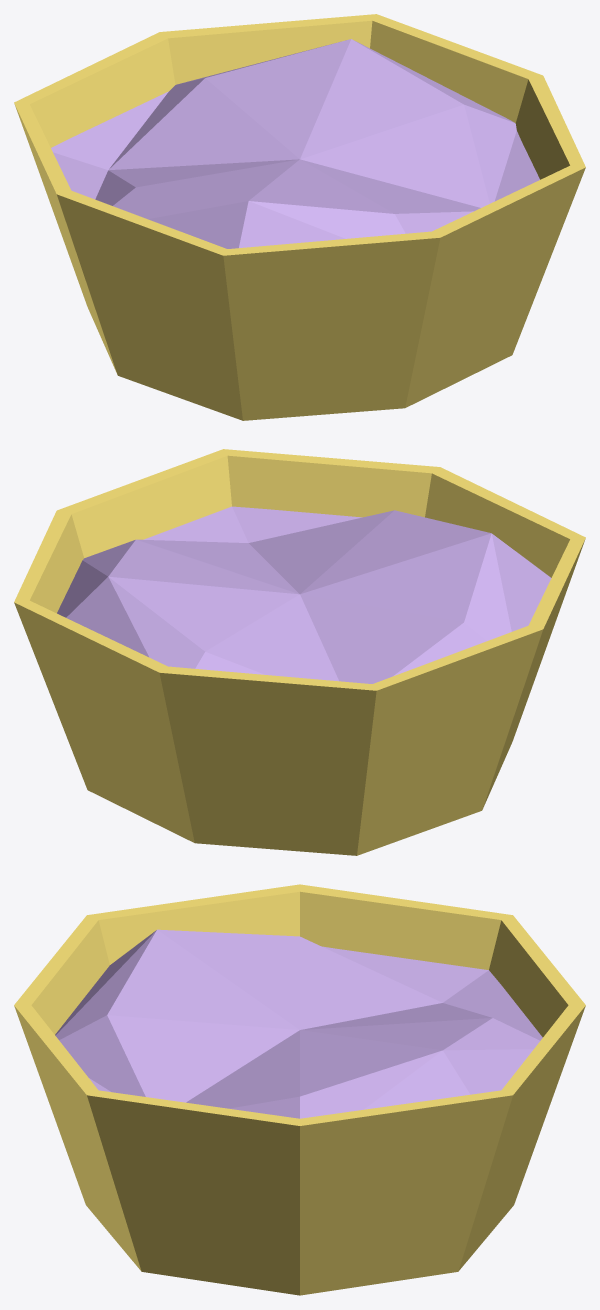
The model's file is Basket_5.fbx.
3 views of the same model, one above another, from view 1: azimuth 30°, elevation 25°; view 2: azimuth 150°, elevation 25°; view 3: azimuth 270°, elevation 25° (orthographic).
Parts seen in each view (by area): view 1: Basket_5; view 2: Basket_5; view 3: Basket_5.
Part boxes in pixels (x1=…): Basket_5: x1=14, y1=14, x2=585, y2=420; Basket_5: x1=14, y1=449, x2=585, y2=855; Basket_5: x1=14, y1=884, x2=585, y2=1295.
Size of the model in its own units: 61.43 by 61.43 by 26.
